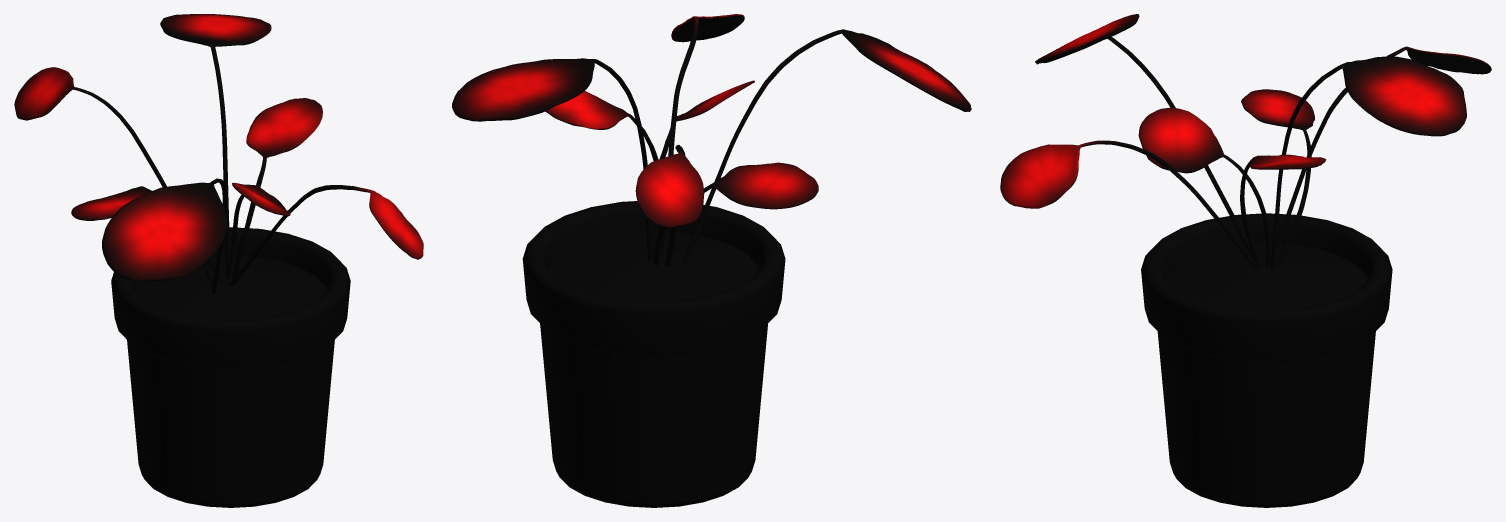
The model's file is pottedplant.fbx.
The picture shows the model from 3 angles, left to right: view 1: azimuth 30°, elevation 25°; view 2: azimuth 150°, elevation 25°; view 3: azimuth 270°, elevation 25°; orthographic projection. The views are drawn at different scales.
Visible parts, largest first — view 1: pottedplant; view 2: pottedplant; view 3: pottedplant.
Part boxes in pixels (box(x1,y1,x2,y2)): pottedplant: box(14, 14, 423, 507); pottedplant: box(452, 14, 971, 507); pottedplant: box(1000, 14, 1491, 507).
Bounding box in the file's own units: 553 × 677 × 722.
